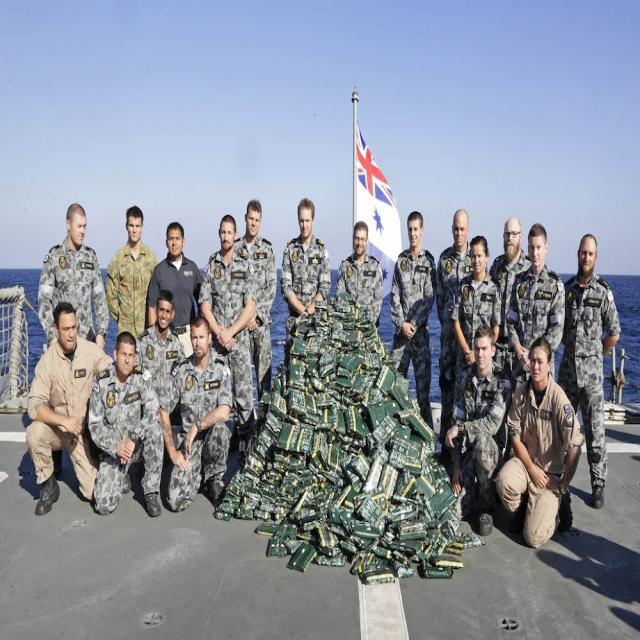body: (469, 417, 640, 640), (23, 299, 114, 516), (555, 232, 623, 510), (493, 334, 575, 552), (156, 314, 236, 515), (443, 320, 516, 540), (196, 211, 258, 470), (86, 328, 166, 519), (503, 223, 566, 462), (434, 206, 491, 468), (228, 199, 278, 452), (387, 210, 438, 435), (35, 202, 111, 352), (488, 214, 532, 462), (449, 235, 503, 405), (12, 405, 90, 520), (280, 196, 331, 368), (147, 222, 203, 360), (104, 205, 160, 340), (134, 287, 188, 403), (336, 219, 385, 325)
